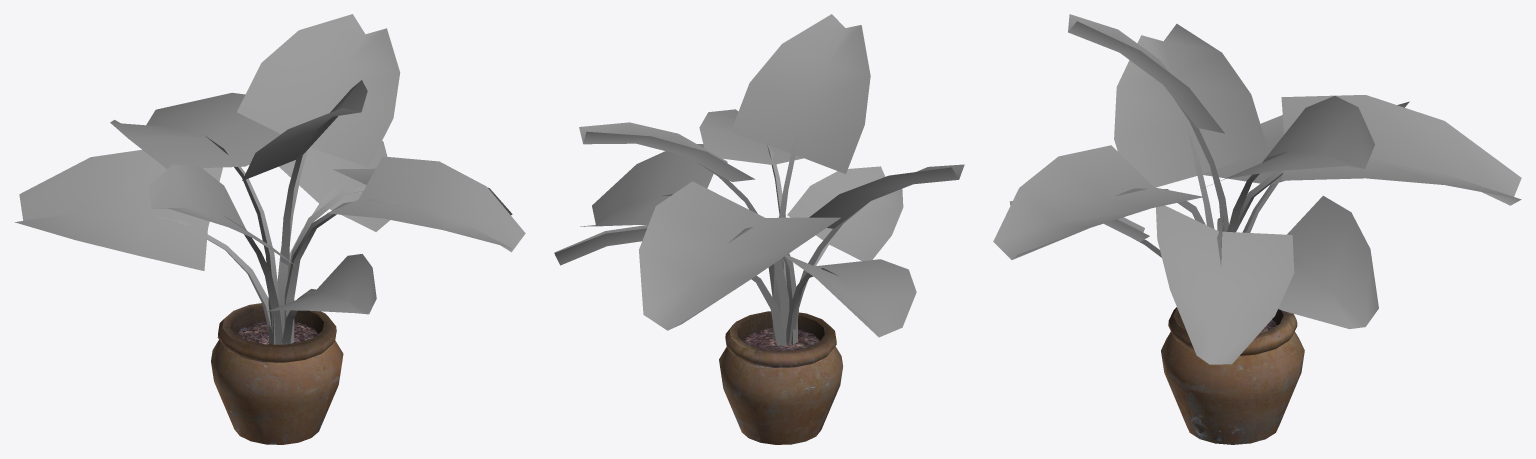
File: potted_plant-1.fbx
The picture shows the model from 3 angles, left to right: view 1: azimuth 30°, elevation 25°; view 2: azimuth 150°, elevation 25°; view 3: azimuth 270°, elevation 25°; orthographic projection. The views are drawn at different scales.
Visible parts, largest first — view 1: leaves, pot; view 2: leaves, pot; view 3: leaves, pot.
Boxes of the visible parts, <box> form: leaves: <box>15,14,525,344</box>; pot: <box>211,303,343,444</box>; leaves: <box>554,14,964,345</box>; pot: <box>719,311,843,444</box>; leaves: <box>993,14,1521,364</box>; pot: <box>1161,307,1304,444</box>.
Bounding box in the file's own units: 72.17 × 63.86 × 73.94.
2 materials, 1 textured.
